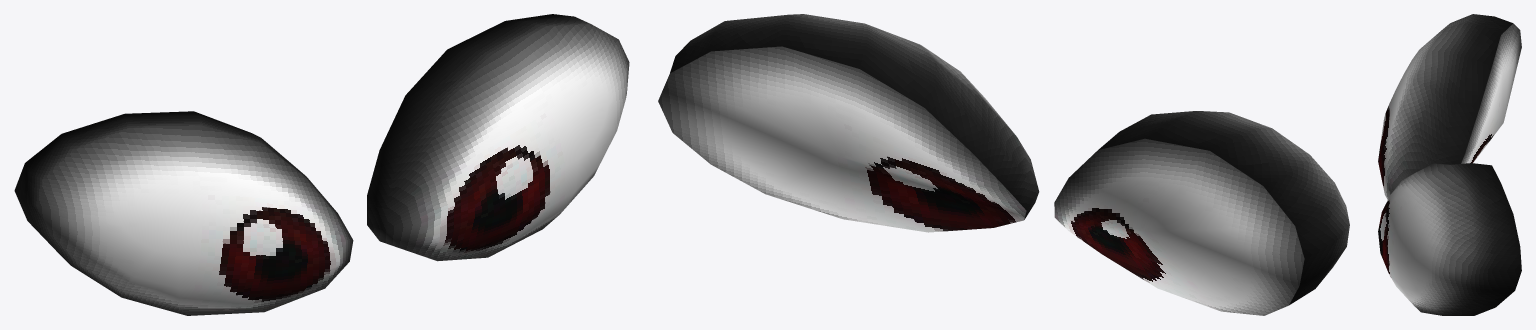
Rendered from m_e_yeopo.FBX.
3 views of the same model, side by side, from view 1: azimuth 30°, elevation 25°; view 2: azimuth 150°, elevation 25°; view 3: azimuth 270°, elevation 25° (orthographic). The views are drawn at different scales.
Parts seen in each view (by area): view 1: Object01; view 2: Object01; view 3: Object01.
Boxes of the visible parts, bbox=[...] form: Object01: bbox=[14, 14, 629, 315]; Object01: bbox=[658, 14, 1349, 315]; Object01: bbox=[1378, 14, 1521, 315].
Size of the model in its own units: 5.85 by 1.71 by 1.54.
